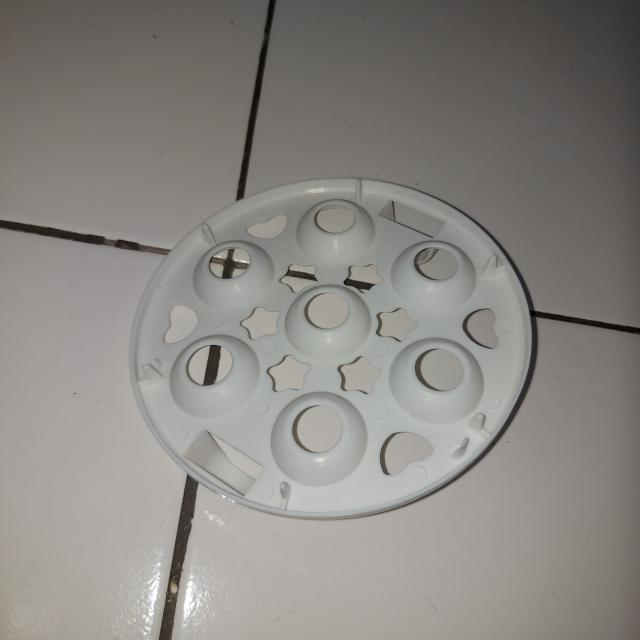Anorganik: (131, 176, 531, 522)
